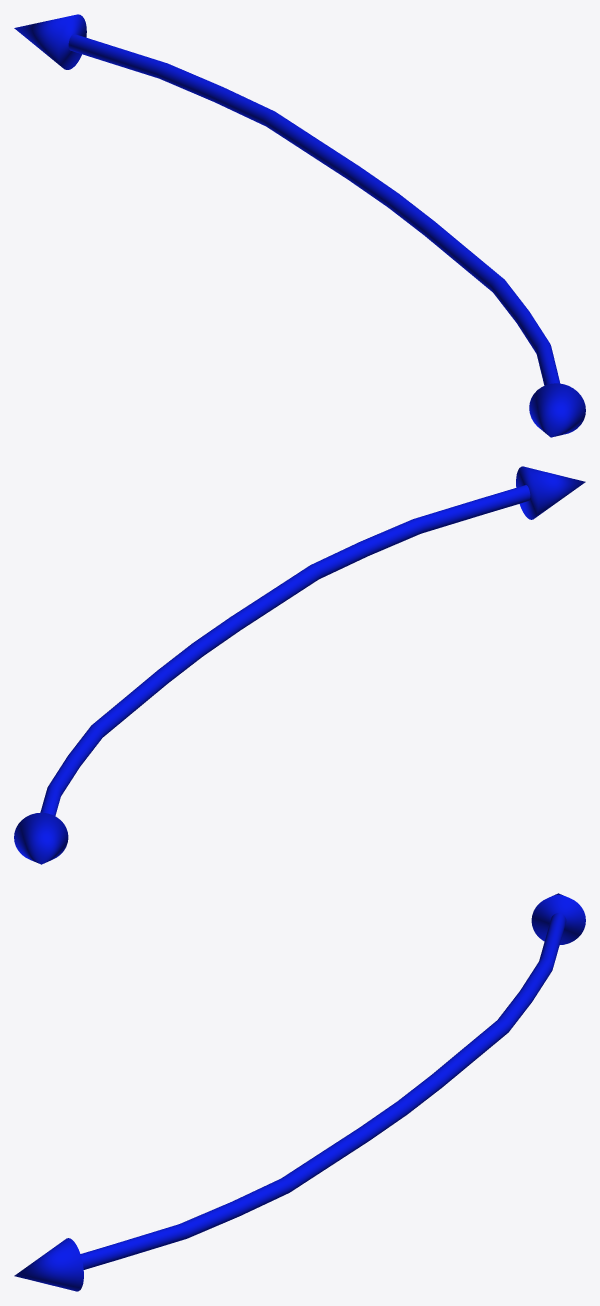
Rendered from Spotlight_BlueArrow_Lat.glb.
The picture shows the model from 3 angles, top to bottom: view 1: azimuth 30°, elevation 25°; view 2: azimuth 150°, elevation 25°; view 3: azimuth 330°, elevation 25°; orthographic projection. The views are drawn at different scales.
Parts seen in each view (by area): view 1: Cylinder.039, Cone.023, Cone.022; view 2: Cylinder.039, Cone.022, Cone.023; view 3: Cylinder.039, Cone.023, Cone.022.
Part boxes in pixels (x1,y1,x2,y2): Cylinder.039: [68, 34, 560, 385]; Cone.023: [529, 383, 585, 437]; Cone.022: [14, 14, 86, 69]; Cylinder.039: [40, 485, 530, 815]; Cone.022: [14, 812, 68, 864]; Cone.023: [516, 466, 585, 519]; Cylinder.039: [80, 913, 566, 1269]; Cone.023: [14, 1238, 83, 1291]; Cone.022: [531, 893, 585, 944].
Size of the model in its own units: 0.2414 by 0.0901 by 1.75.
